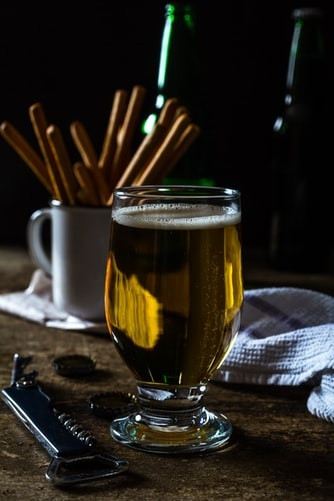whiskey: (103, 186, 242, 440)
